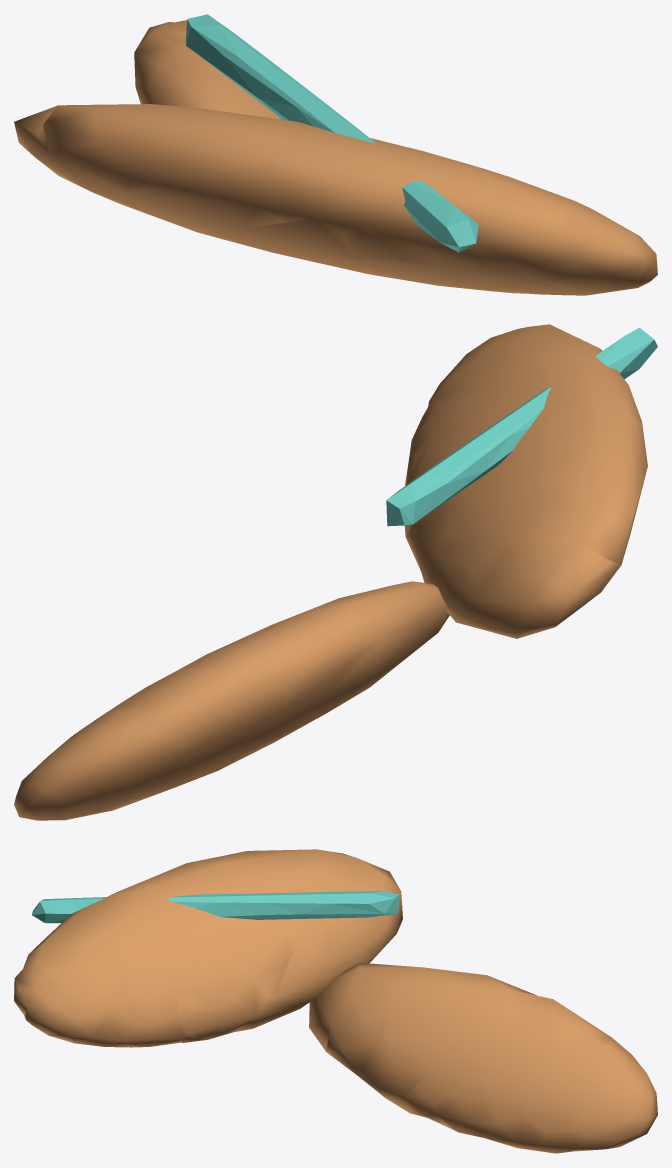
File: tenue_menthe.glb
3 views of the same model, one above another, from view 1: azimuth 30°, elevation 25°; view 2: azimuth 150°, elevation 25°; view 3: azimuth 270°, elevation 25° (orthographic). The views are drawn at different scales.
Parts seen in each view (by area): view 1: head__coiffe, head__coiffe_glow; view 2: head__coiffe, head__coiffe_glow; view 3: head__coiffe, head__coiffe_glow.
Boxes of the visible parts, left/top/right/bottom form: head__coiffe: left=14, top=20, right=657, bottom=295; head__coiffe_glow: left=185, top=14, right=478, bottom=252; head__coiffe: left=14, top=324, right=647, bottom=820; head__coiffe_glow: left=386, top=327, right=657, bottom=526; head__coiffe: left=14, top=849, right=657, bottom=1153; head__coiffe_glow: left=32, top=891, right=399, bottom=923.
Bounding box in the file's own units: 0.121 × 0.0782 × 0.2348.
